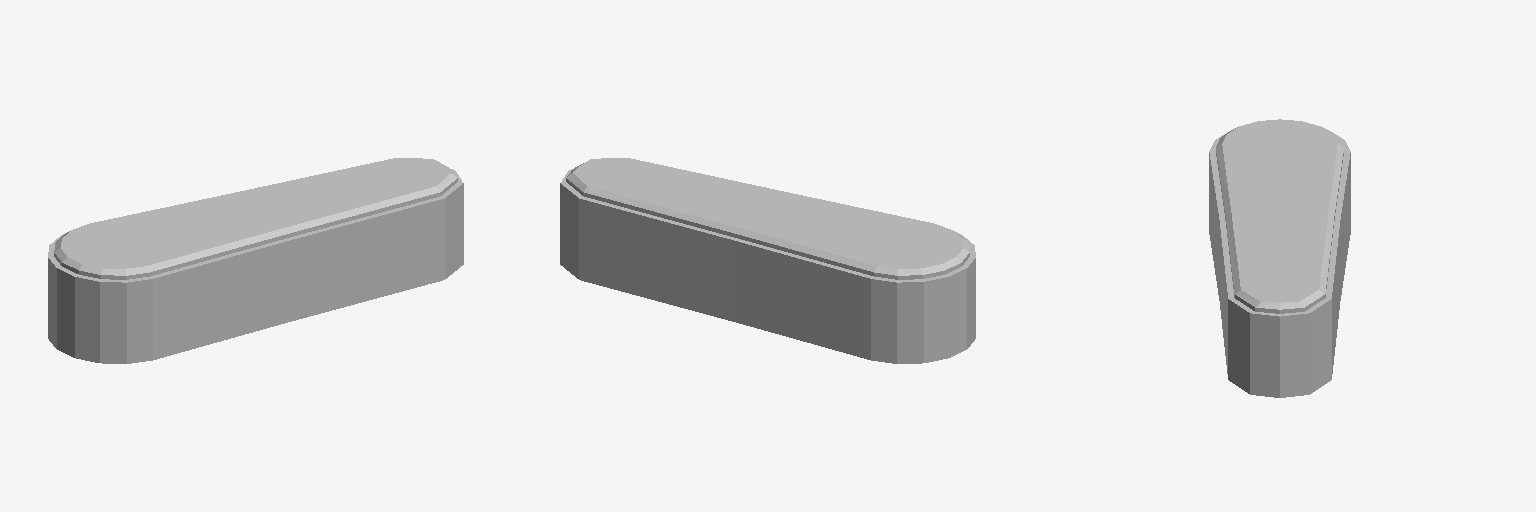
The model's file is Flipper.obj.
The picture shows the model from 3 angles: view 1: azimuth 30°, elevation 25°; view 2: azimuth 150°, elevation 25°; view 3: azimuth 270°, elevation 25°; orthographic projection.
Visible parts, largest first — view 1: Cylinder; view 2: Cylinder; view 3: Cylinder.
Part boxes in pixels (bbox=[...]): Cylinder: bbox=[48, 158, 463, 363]; Cylinder: bbox=[560, 158, 975, 363]; Cylinder: bbox=[1209, 119, 1350, 397].
Size of the model in its own units: 7.16 by 1.54 by 2.2.